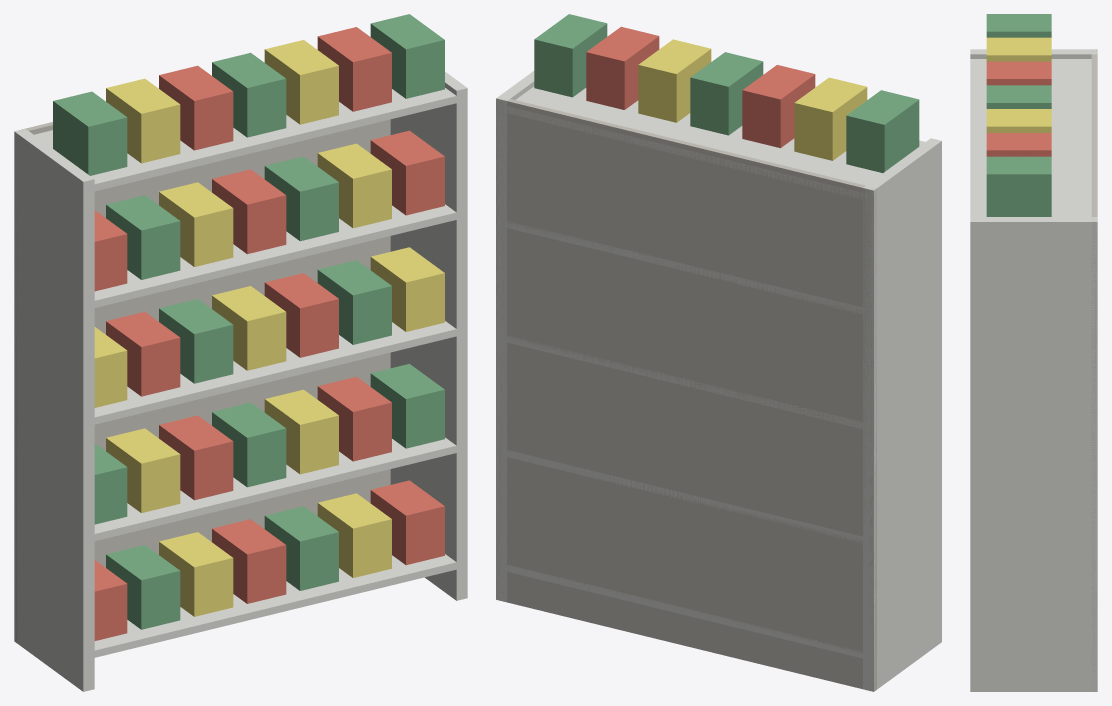
File: dm_grocery_shelving.glb
3 renders of one model, left to right at view 1: azimuth 30°, elevation 25°; view 2: azimuth 150°, elevation 25°; view 3: azimuth 270°, elevation 25°, orthographic. The views are drawn at different scales.
Visible parts, largest first — view 1: dm_grocery_shelving; view 2: dm_grocery_shelving; view 3: dm_grocery_shelving.
Boxes of the visible parts, x1,y1,x2,y2 form: dm_grocery_shelving: [14, 14, 467, 691]; dm_grocery_shelving: [496, 14, 941, 691]; dm_grocery_shelving: [970, 14, 1097, 691].
Bounding box in the file's own units: 1.38 × 1.91 × 0.43.
